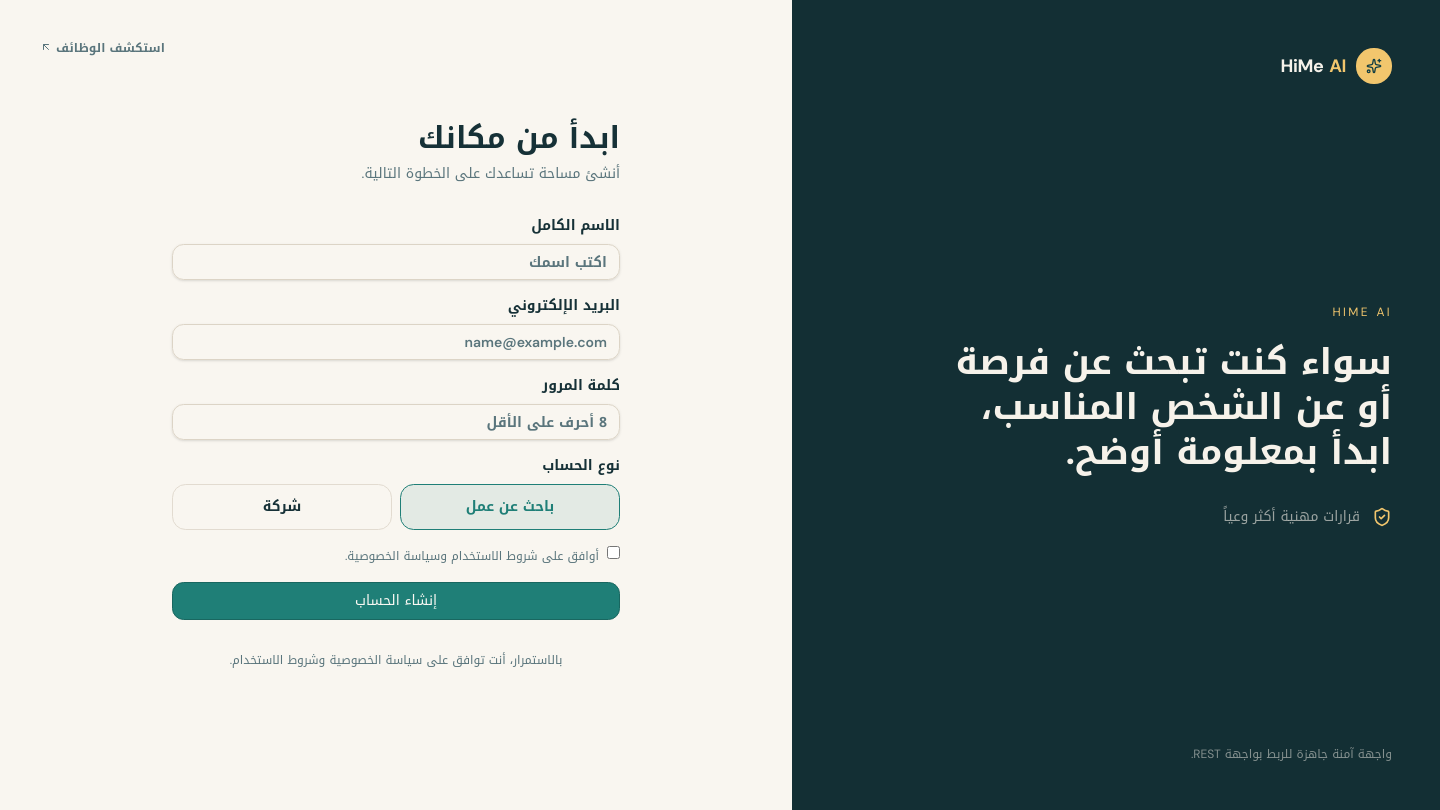
Test: authentication flows › requires registration consent and preserves the selected account type
Type "Layan" into the field with test id "input-register-name" at [396, 262], box 172,244 -> 620,280
Type "layan@example.com" into the field with test id "input-register-email" at [396, 342], box 172,324 -> 620,360
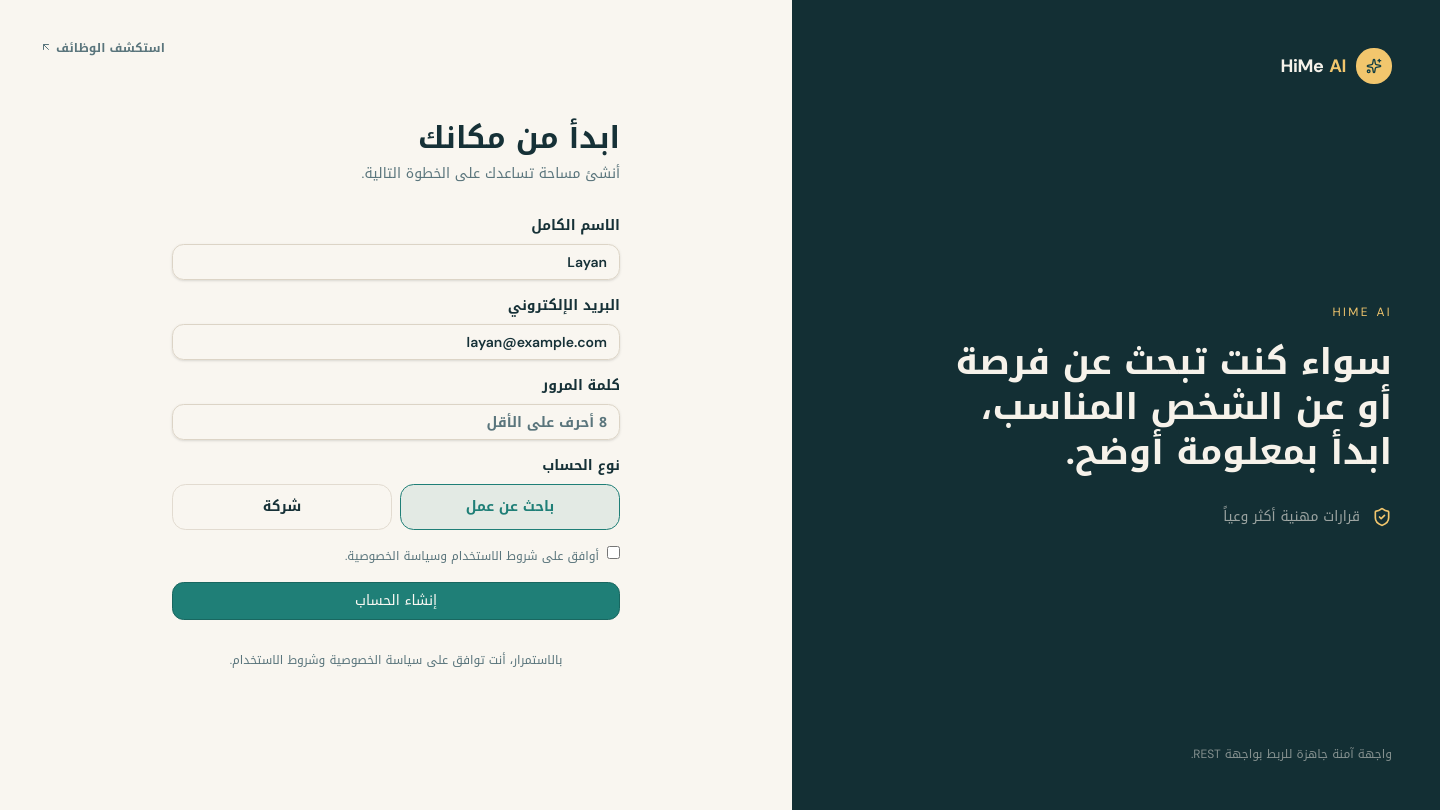
Type "correct-password" into the password field with test id "input-register-password" at [396, 422], box 172,404 -> 620,440
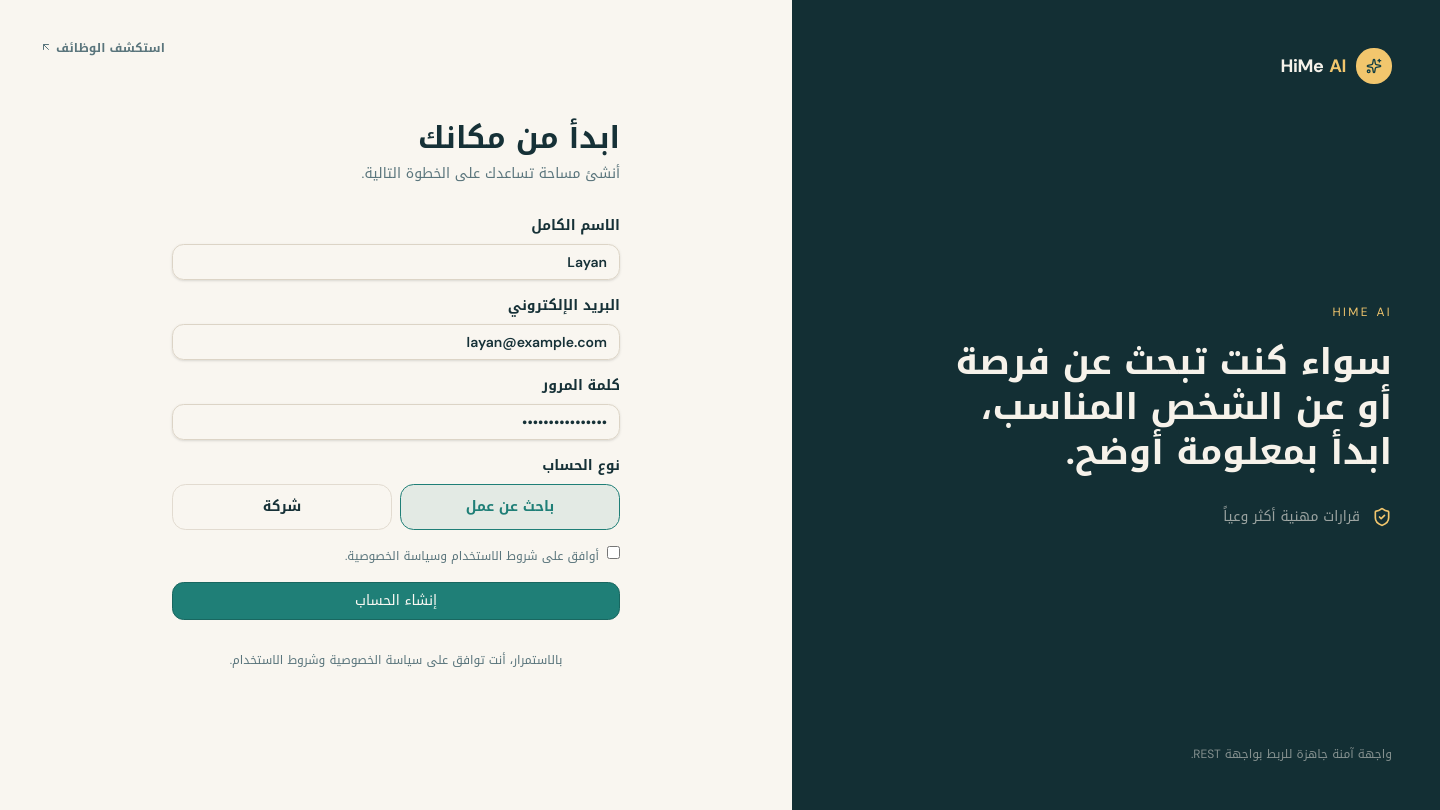
Click the button with test id "button-role-company" at [282, 507], box 172,484 -> 392,530
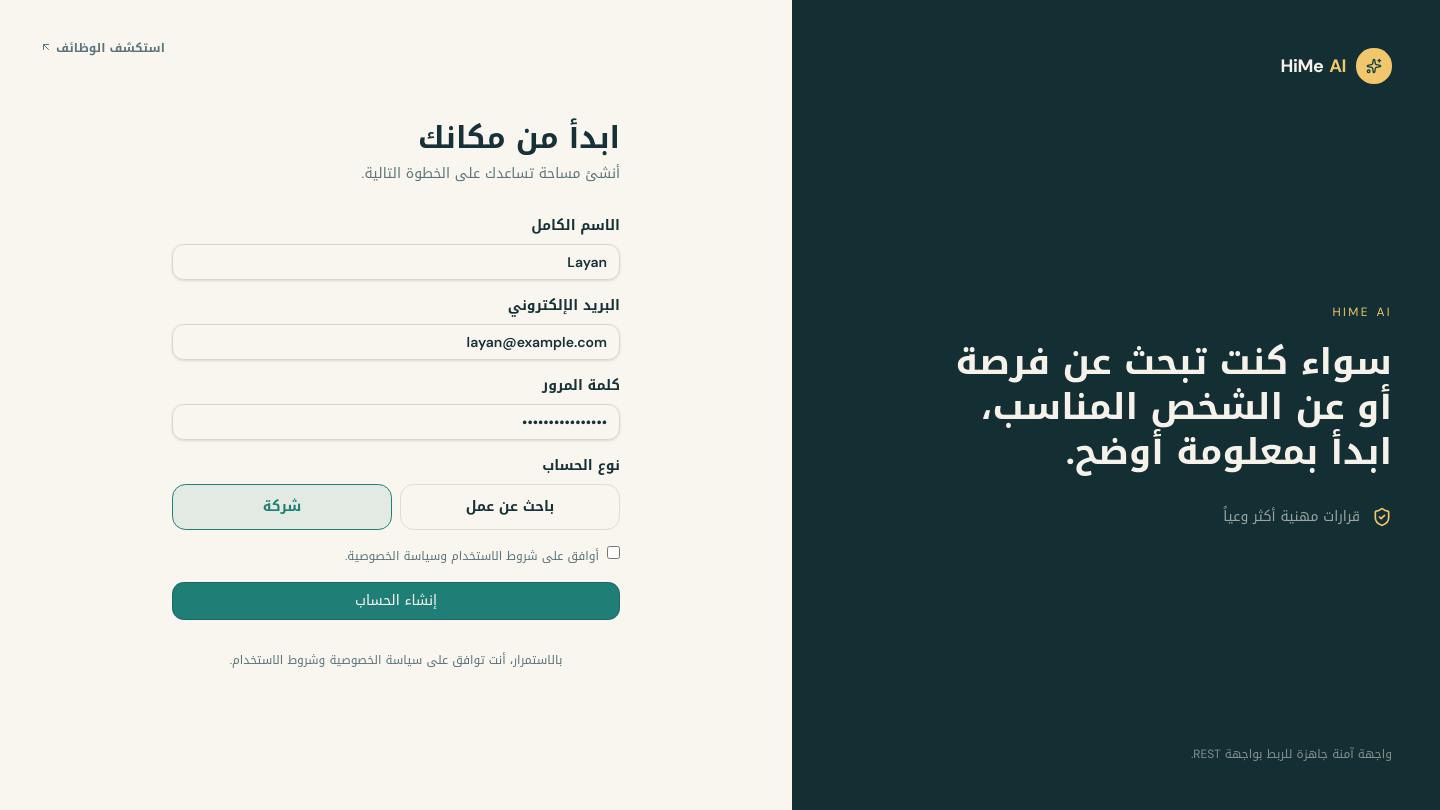
Click the button with test id "button-submit-register" at [396, 601], box 172,582 -> 620,620
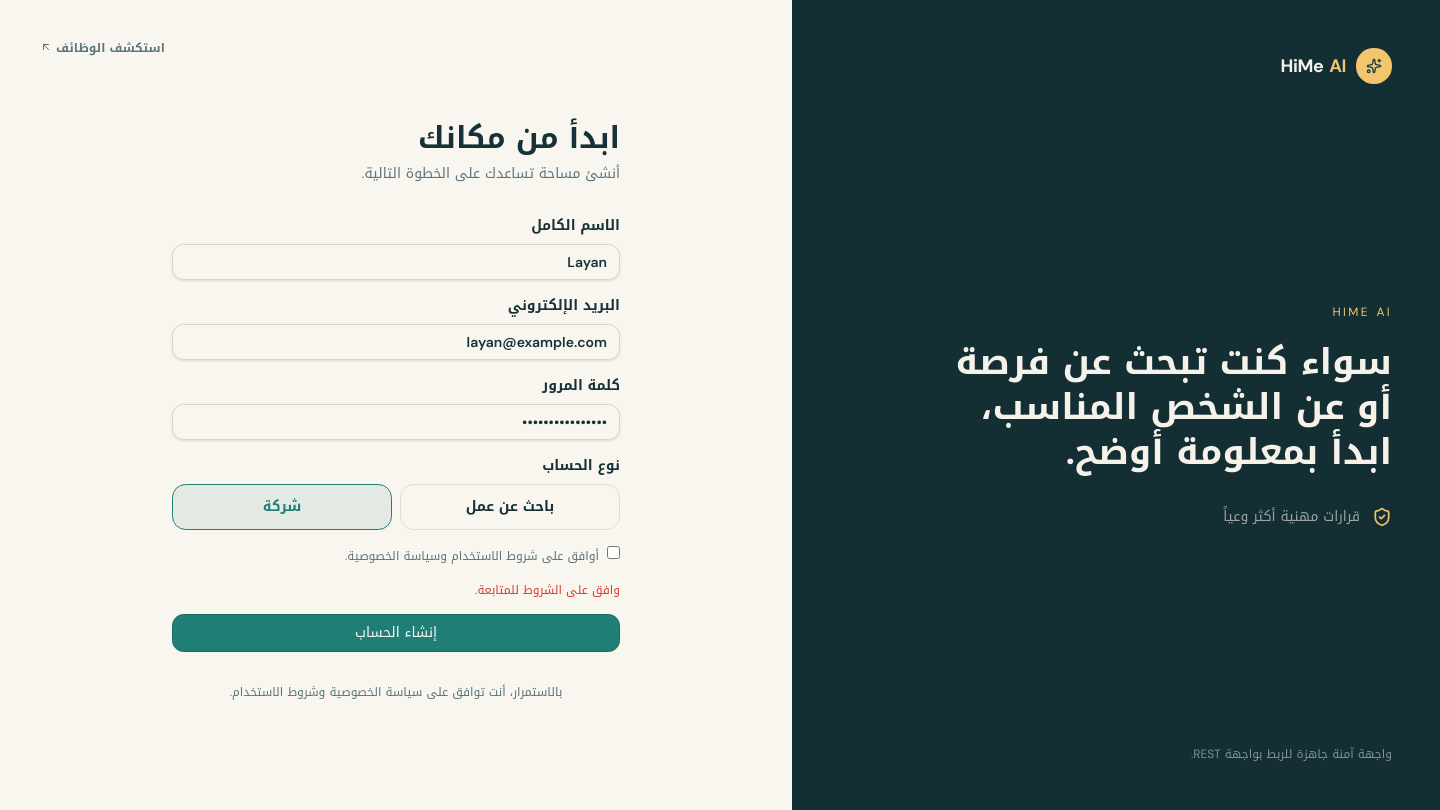
Expected: the message "وافق على الشروط للمتابعة." is shown, 475,579 -> 620,601
Click the checkbox with test id "checkbox-terms" at [614, 552], box 607,546 -> 620,559
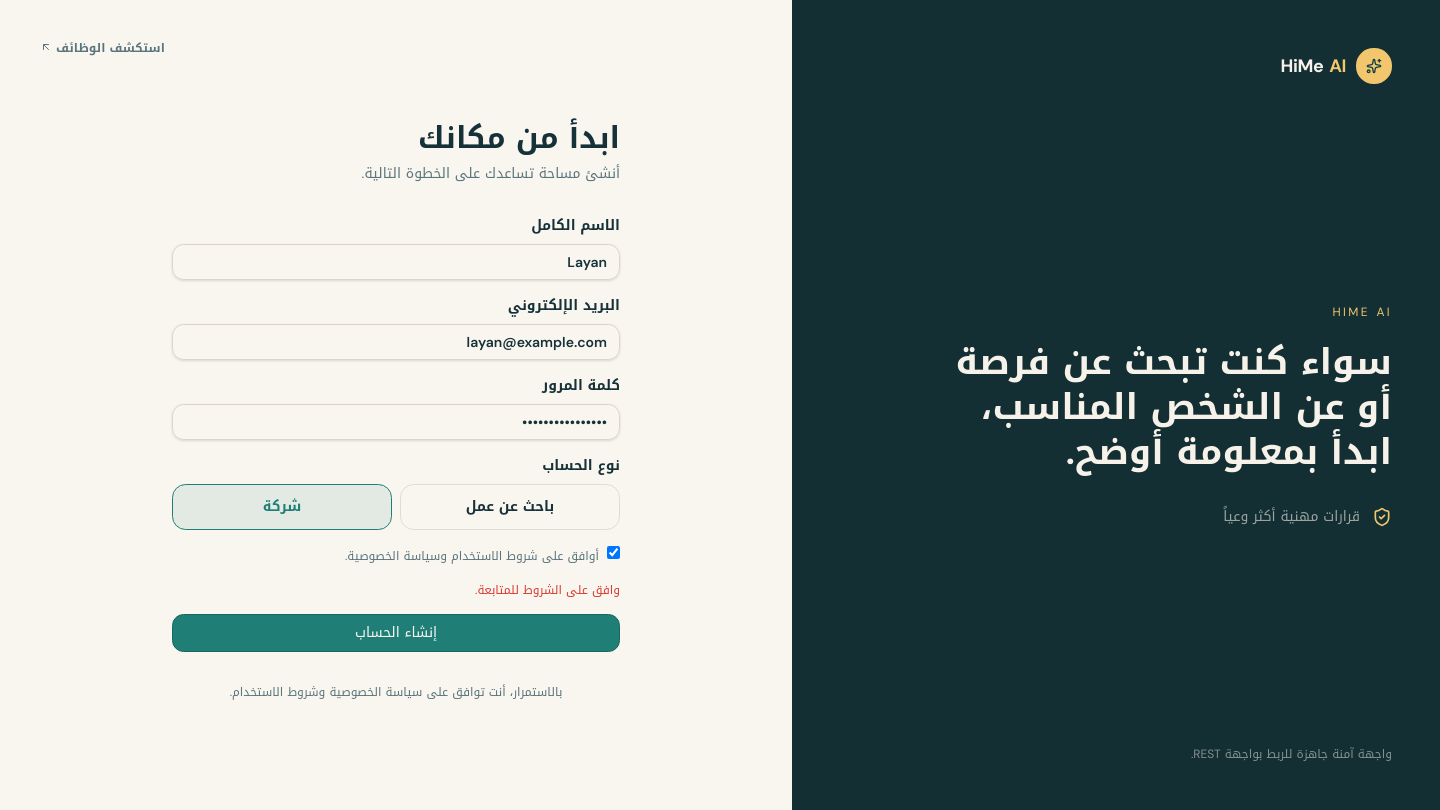
Click the button with test id "button-submit-register" at [396, 633], box 172,614 -> 620,652
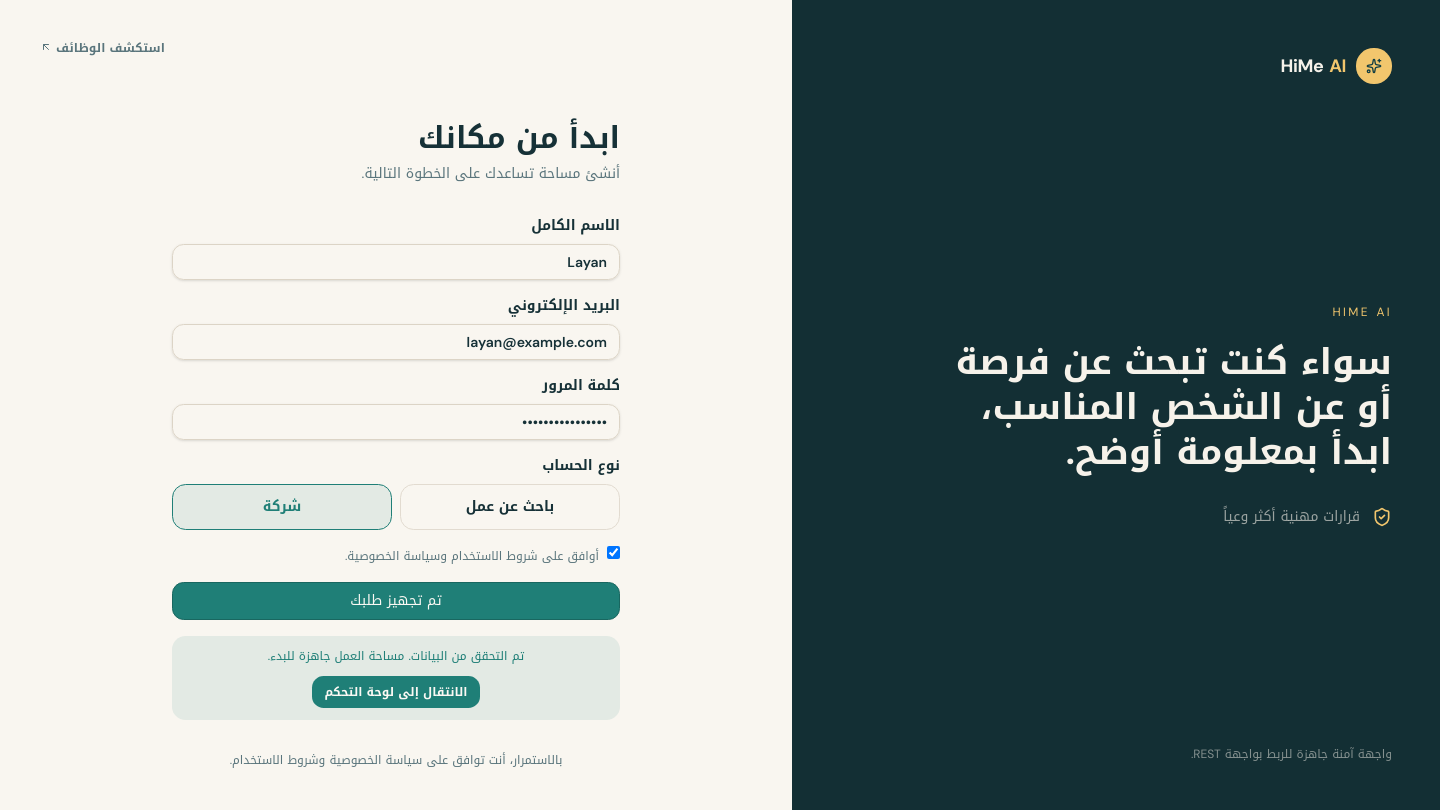
Expected: the message "تم التحقق من البيانات. مساحة العمل جاهزة للبدء. الانتقال إلى لوحة التحكم" is shown, 172,636 -> 620,720
